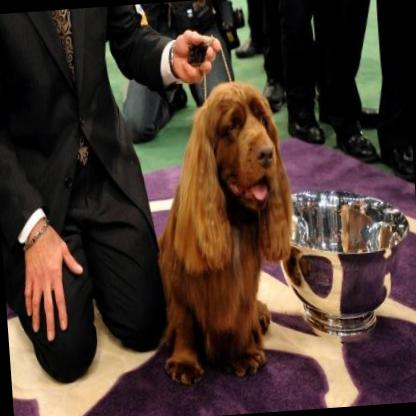Sussex_spaniel: (143, 76, 306, 388)
